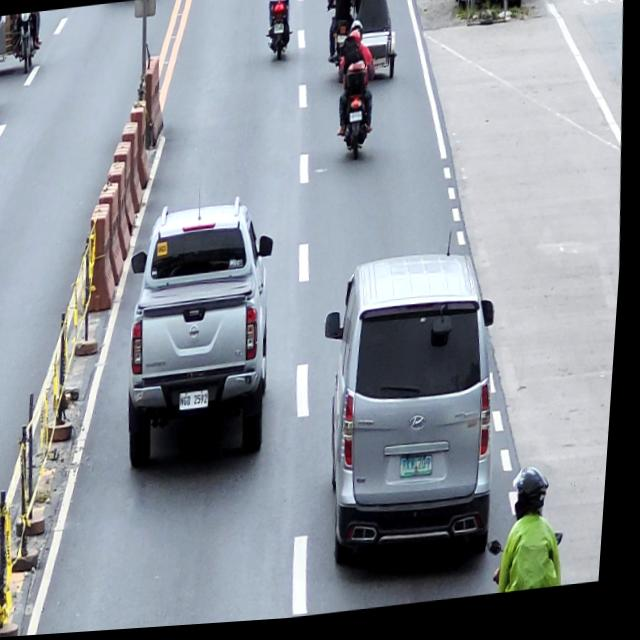Car: (313, 252, 517, 580), (123, 197, 291, 474), (0, 16, 6, 124)
License-Plate: (406, 461, 441, 485), (185, 394, 215, 414), (351, 117, 364, 127), (338, 39, 349, 49), (274, 28, 284, 39)
Motorcycle: (335, 63, 381, 167), (263, 0, 296, 67)
Tricycle: (322, 0, 404, 89), (0, 12, 41, 74)
